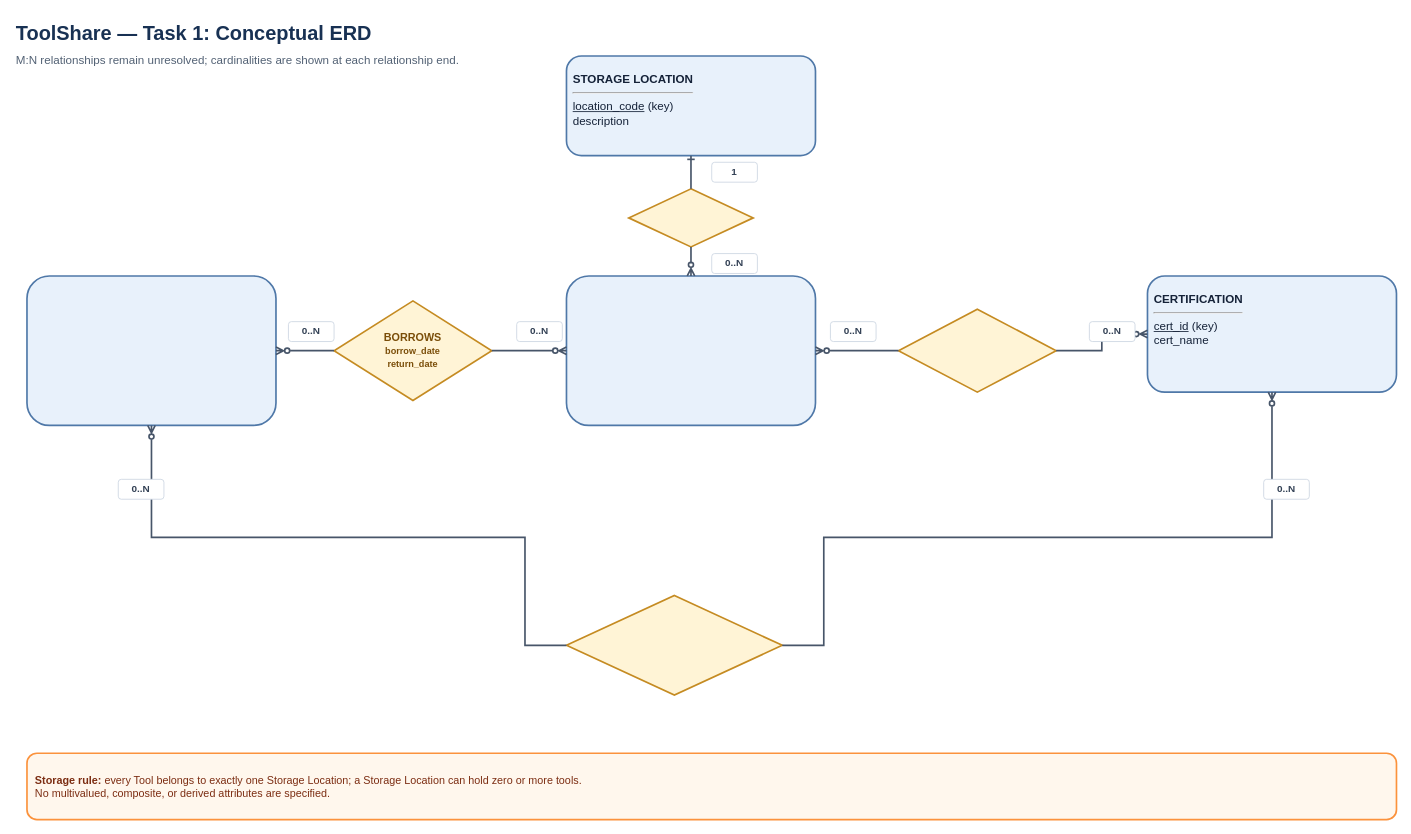
The diagram is 1411 pixels wide and 834 high, and some of its shapes have lost their labels. Here are the shapes that lost their labels. From the top down, the centre of each, then its label:
At (x=690, y=217): "STORES".
At (x=151, y=350): "MEMBER member_id (key) member_name phone join_date".
At (x=690, y=350): "TOOL tool_id (key) tool_name category purchase_date".
At (x=977, y=350): "REQUIRES".
At (x=674, y=645): "COMPLETES completion_date".
